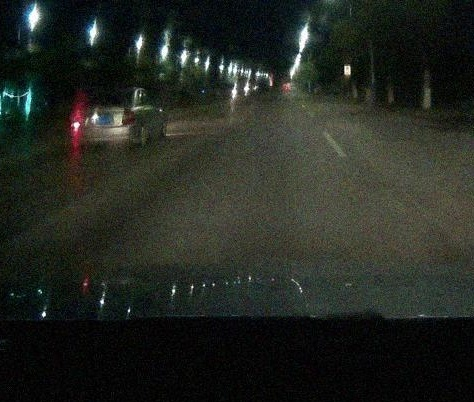L_light: (71, 109, 85, 128)
R_light: (121, 108, 137, 125)
T_light: (101, 90, 114, 93)
night-left: (70, 88, 137, 150)
